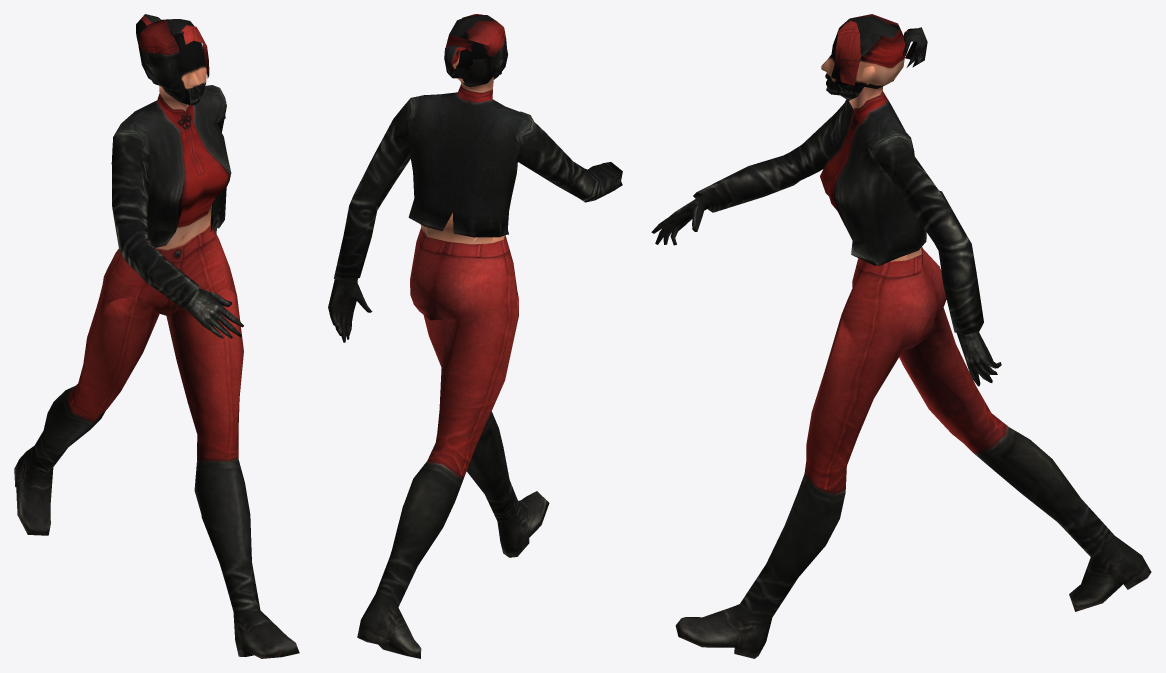
The picture shows the model from 3 angles, left to right: view 1: azimuth 30°, elevation 25°; view 2: azimuth 150°, elevation 25°; view 3: azimuth 270°, elevation 25°; orthographic projection. The views are drawn at different scales.
Parts seen in each view (by area): view 1: SketchUp (×4); view 2: SketchUp (×4); view 3: SketchUp (×5).
Boxes of the visible parts, x1,y1,x2,y2 form: SketchUp (×4): [14, 19, 299, 658]; SketchUp (×4): [328, 15, 622, 658]; SketchUp (×5): [651, 14, 1151, 658].
Size of the model in its own units: 67.84 by 152 by 211.
Materials: 2 (2 with a texture image).
